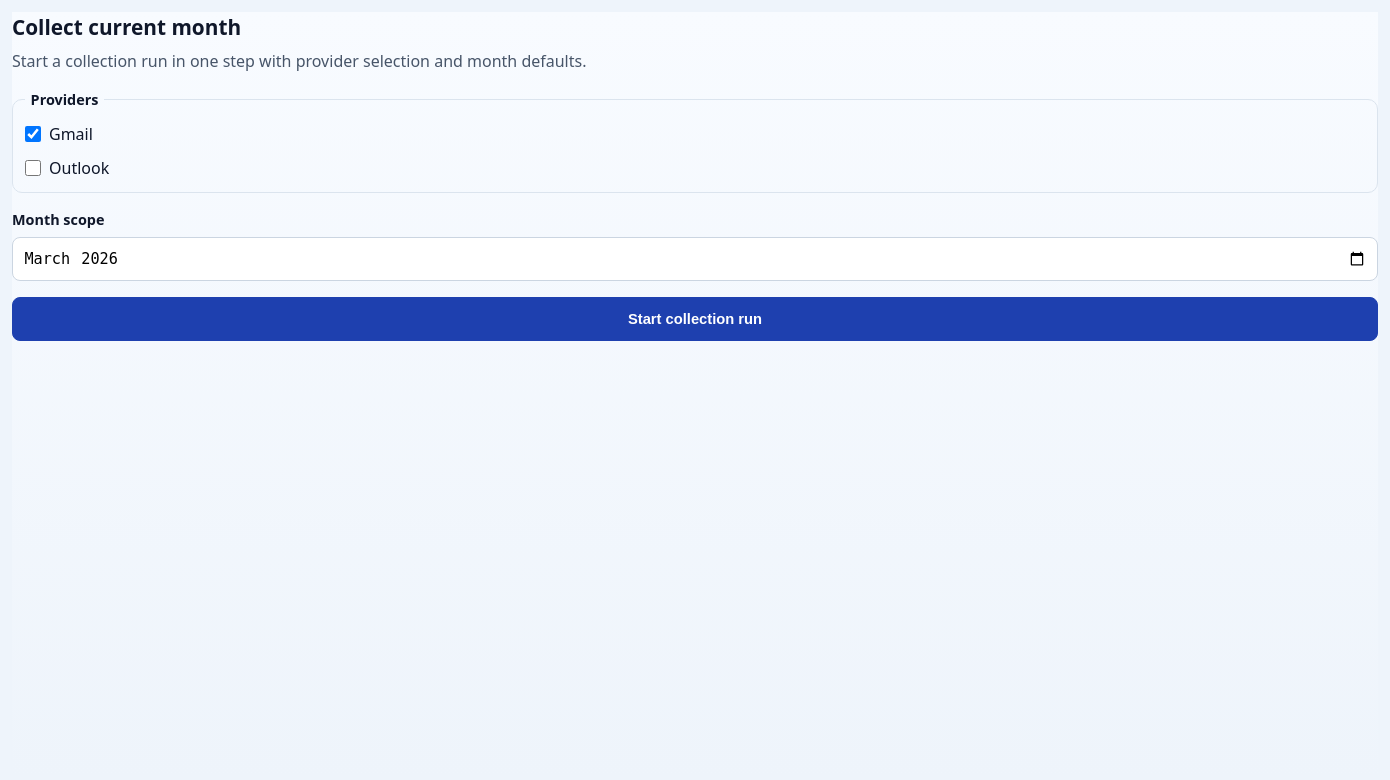
Test: CollectionWizardPage › submits default current-month payload and shows started run details
What coordinates should you click on to do the following:
click the button "Start collection run"
I would click on:
 (695, 319)
Its box is [12, 297, 1378, 341].
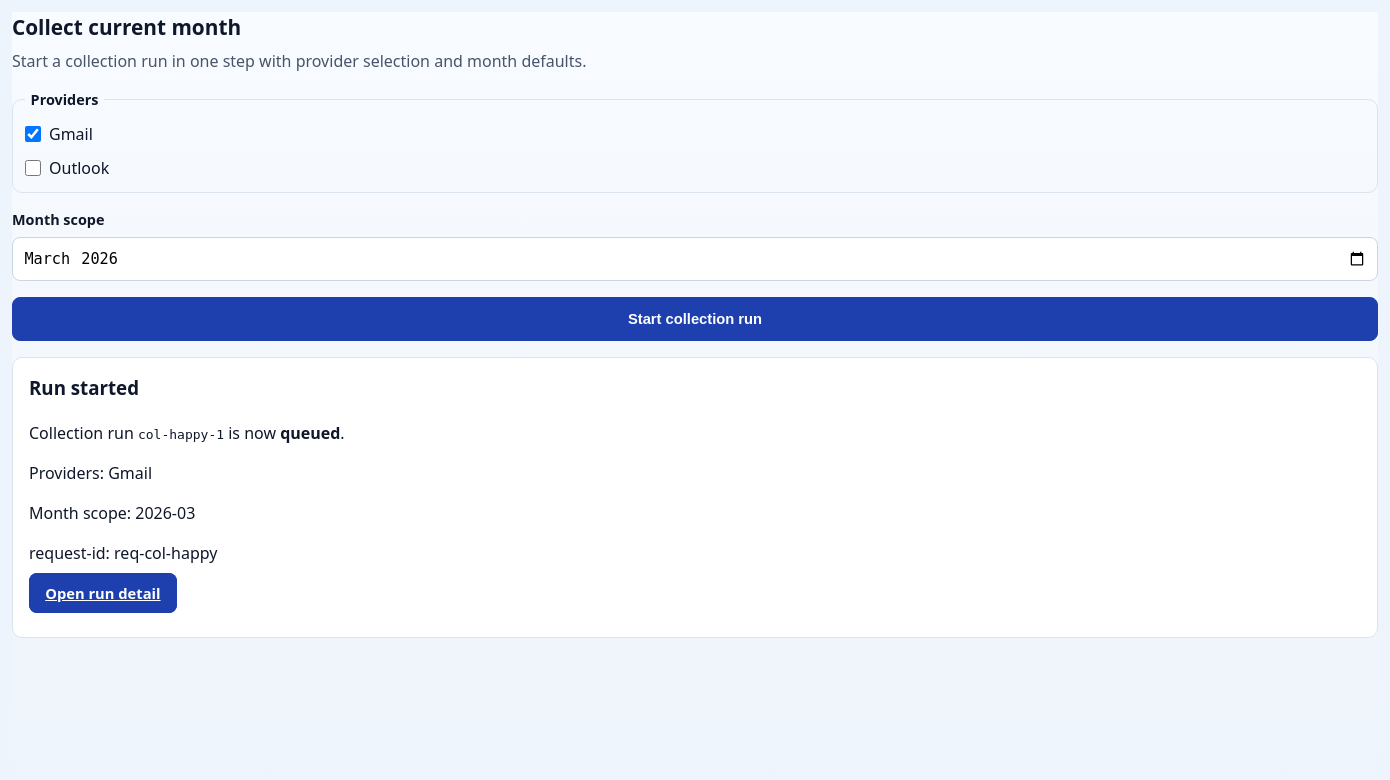
Expected: the heading "Run started" is shown, [29, 375, 139, 400]
Expected: the text "col-happy-1" is shown, [138, 427, 224, 442]
Expected: the text "queued" is shown, [280, 422, 340, 444]
